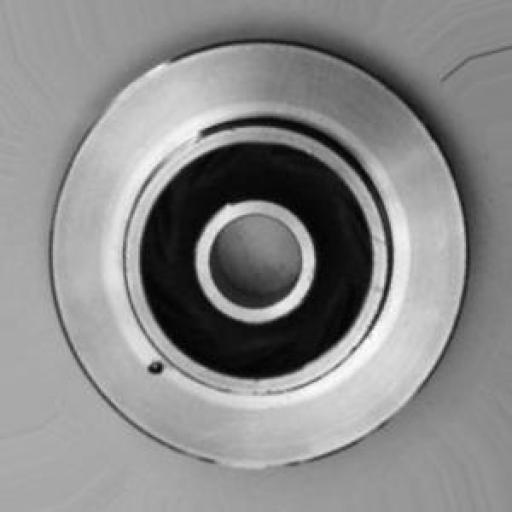defect: (120, 335, 186, 407)
